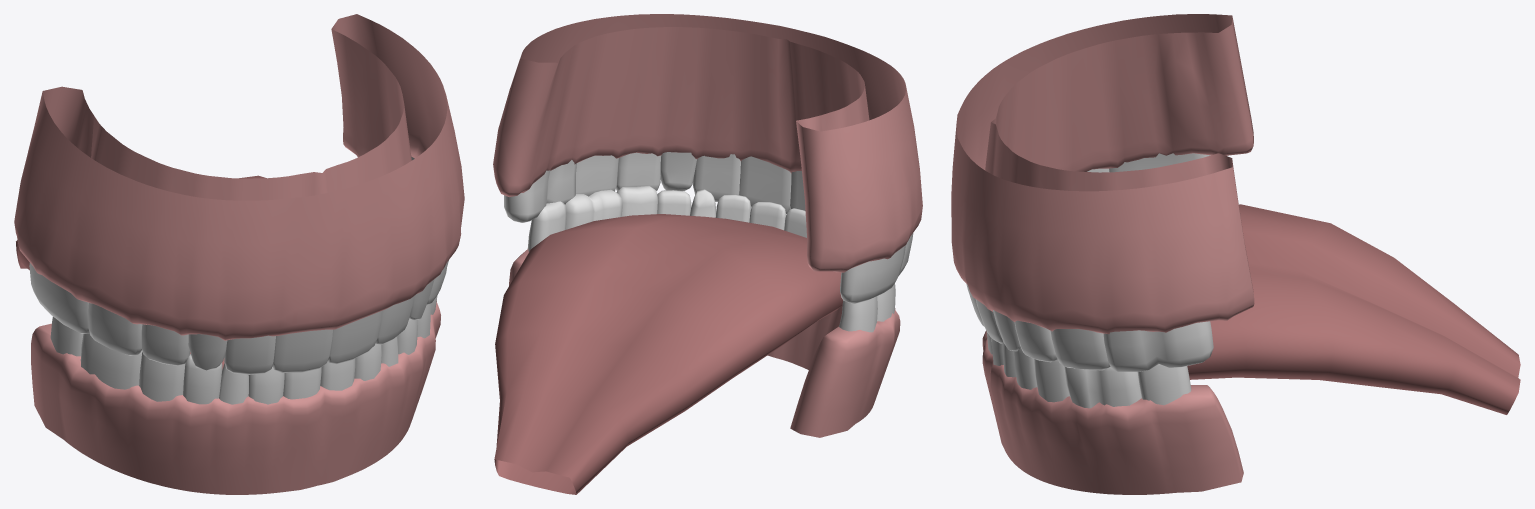
Rendered from MOUTH.fbx.
3 views of the same model, side by side, from view 1: azimuth 30°, elevation 25°; view 2: azimuth 150°, elevation 25°; view 3: azimuth 270°, elevation 25° (orthographic). The views are drawn at different scales.
Visible parts, largest first — view 1: Mery_geo_up_teeth01, Mery_geo_dw_teeth01; view 2: Mery_geo_up_teeth01, Mery_geo_cn_tongue, Mery_geo_dw_teeth01; view 3: Mery_geo_up_teeth01, Mery_geo_cn_tongue, Mery_geo_dw_teeth01.
Boxes of the visible parts, <box> form: Mery_geo_up_teeth01: <box>14,14,464,374</box>; Mery_geo_dw_teeth01: <box>31,296,440,494</box>; Mery_geo_up_teeth01: <box>493,14,922,303</box>; Mery_geo_cn_tongue: <box>494,214,842,494</box>; Mery_geo_dw_teeth01: <box>509,186,900,437</box>; Mery_geo_up_teeth01: <box>951,14,1254,371</box>; Mery_geo_cn_tongue: <box>1187,204,1520,414</box>; Mery_geo_dw_teeth01: <box>982,330,1243,494</box>.
Size of the model in its own units: 9.56 by 7.91 by 11.86.
